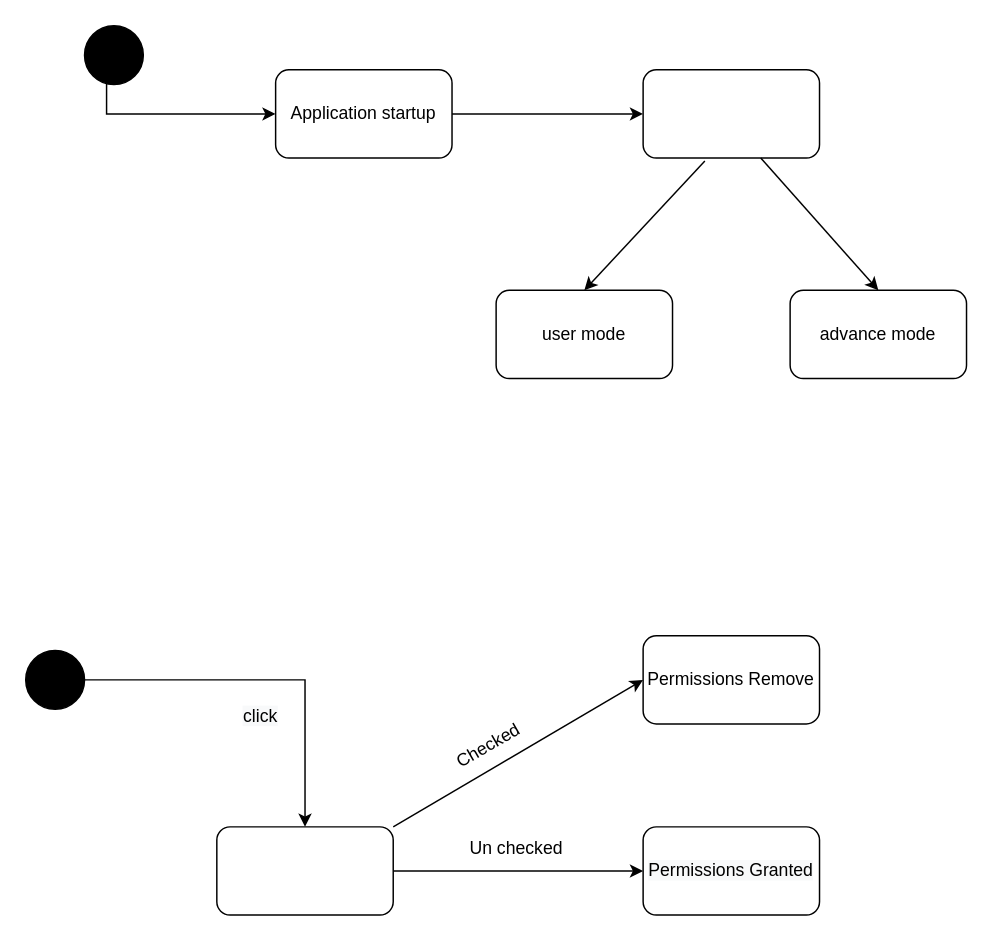
Some shapes in this 992 by 941 pixel diagram are drawn without their labels. Each missing label, with the box of its shape:
check user status: (642, 68, 820, 158)
Permission Checkbox: (215, 825, 393, 915)
